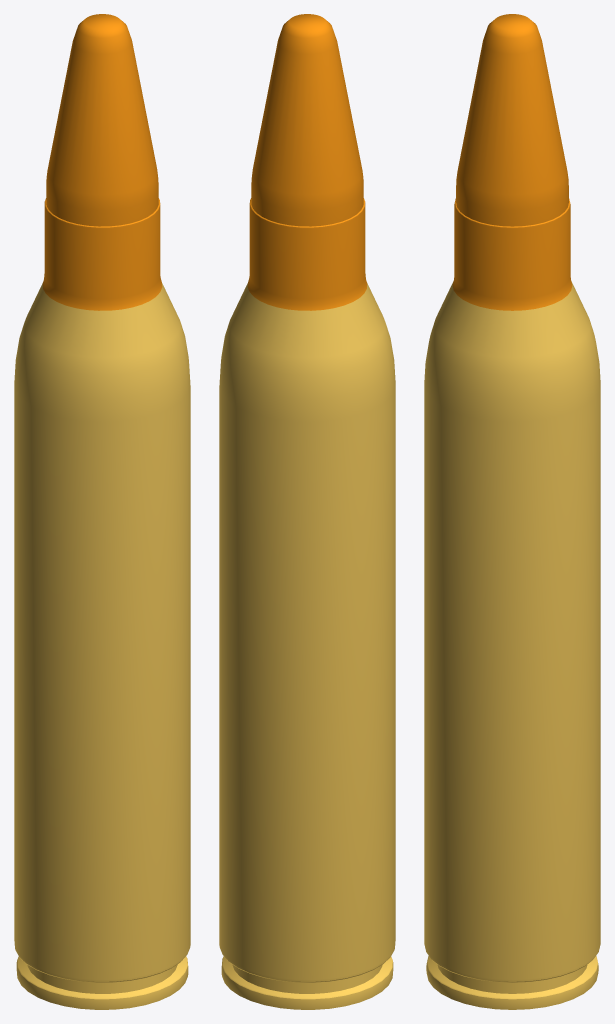
File: bulletsniper.fbx
3 views of the same model, side by side, from view 1: azimuth 30°, elevation 25°; view 2: azimuth 150°, elevation 25°; view 3: azimuth 270°, elevation 25° (orthographic).
Visible parts, largest first — view 1: Cylinder.020; view 2: Cylinder.020; view 3: Cylinder.020.
Boxes of the visible parts, <box> form: Cylinder.020: <box>14,14,190,1009</box>; Cylinder.020: <box>219,14,395,1009</box>; Cylinder.020: <box>424,14,600,1009</box>.
Bounding box in the file's own units: 3.7 × 22.09 × 3.7.
Materials: 1 (1 with a texture image).
